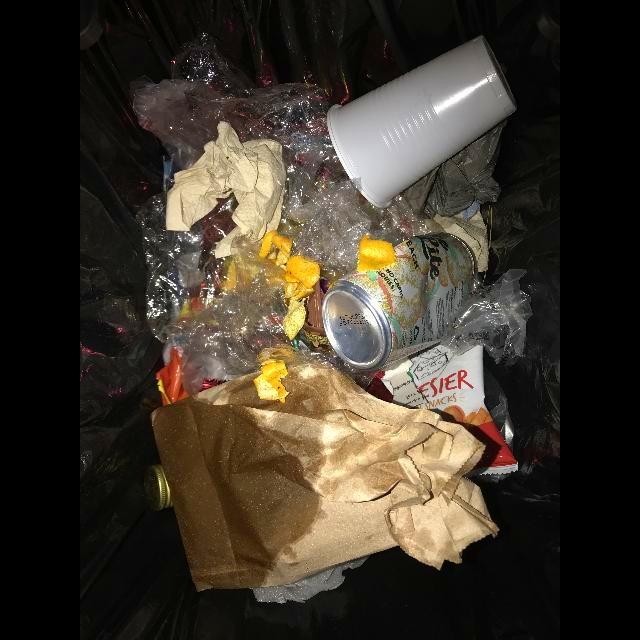aluminum: (322, 233, 477, 372)
food_wrapper: (365, 345, 518, 478)
paper: (150, 365, 499, 593), (165, 121, 287, 259), (424, 200, 489, 273)
plastic_bag: (133, 56, 370, 398), (440, 269, 533, 366)
plastic_container: (326, 35, 518, 210)
